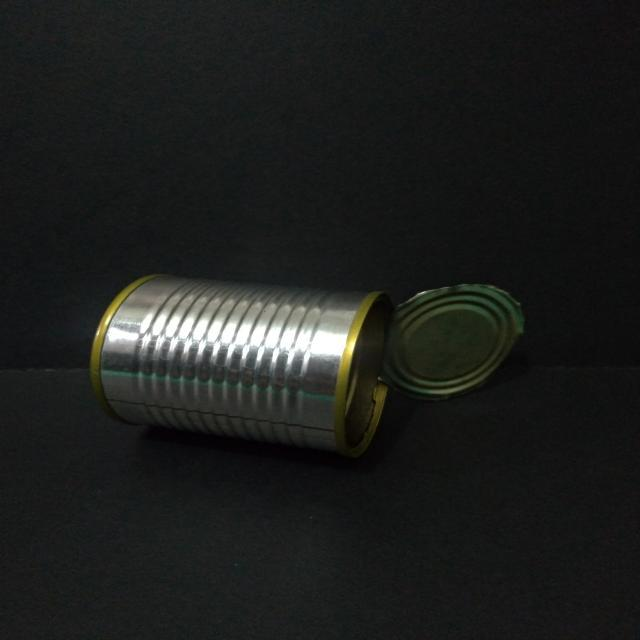metal-can: (85, 265, 528, 465)
